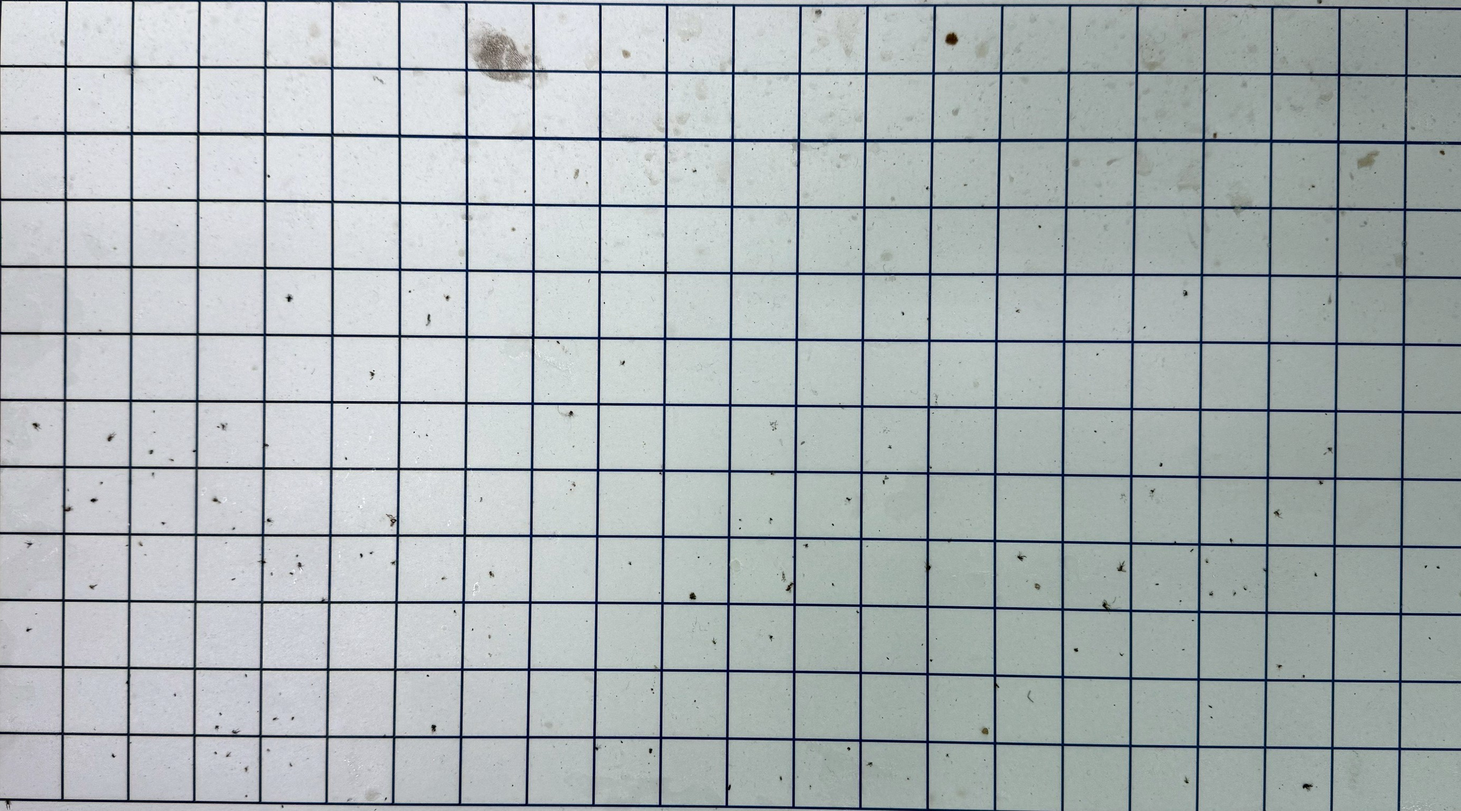test: (1100, 598, 1115, 614), (1300, 781, 1314, 792), (978, 725, 991, 736), (1272, 508, 1285, 519), (387, 513, 397, 527), (1116, 559, 1125, 572), (786, 582, 795, 594), (295, 560, 305, 570), (105, 433, 116, 442), (425, 314, 433, 325), (89, 496, 100, 504), (1034, 580, 1041, 592), (1148, 487, 1157, 496), (1275, 662, 1284, 671), (370, 369, 378, 379), (429, 723, 437, 733), (31, 422, 41, 430), (390, 558, 398, 567), (924, 563, 932, 572), (1017, 552, 1025, 561), (285, 293, 293, 302), (229, 728, 241, 734), (211, 496, 221, 503), (25, 541, 35, 548), (687, 592, 697, 599), (1228, 536, 1235, 546), (711, 636, 717, 647), (259, 557, 267, 565), (486, 571, 495, 578), (62, 505, 71, 512), (1438, 146, 1445, 155), (442, 293, 450, 300), (440, 575, 448, 582), (262, 441, 270, 448), (1311, 571, 1318, 579), (779, 572, 785, 581), (768, 633, 774, 642), (288, 760, 293, 770), (620, 359, 627, 366), (220, 423, 227, 430), (271, 716, 278, 723), (1182, 290, 1189, 297), (1204, 558, 1211, 565), (993, 682, 1000, 689), (569, 409, 575, 417), (89, 583, 97, 589), (226, 751, 232, 759), (167, 456, 175, 462), (725, 783, 733, 789), (1327, 445, 1333, 453), (5, 798, 11, 806), (320, 596, 325, 605), (1185, 777, 1190, 786), (844, 496, 851, 502), (266, 518, 273, 524), (138, 541, 144, 548), (214, 724, 220, 731), (291, 715, 297, 722), (648, 748, 655, 754), (867, 760, 874, 766), (1158, 462, 1165, 468), (881, 479, 887, 486), (1318, 479, 1325, 485), (1207, 590, 1214, 596), (1213, 132, 1219, 139), (800, 439, 806, 446), (737, 516, 743, 523), (925, 185, 931, 192), (230, 576, 237, 582), (269, 571, 276, 577), (218, 711, 224, 718), (769, 470, 775, 477), (1073, 646, 1078, 654), (359, 552, 365, 558), (369, 549, 375, 555), (26, 627, 32, 633), (1015, 308, 1021, 314), (846, 746, 852, 752), (1423, 564, 1429, 570), (1311, 184, 1317, 190), (266, 747, 272, 753), (148, 449, 155, 454), (1118, 651, 1125, 656), (555, 340, 562, 345), (769, 515, 774, 522), (1173, 540, 1178, 547), (289, 571, 296, 576), (151, 471, 156, 478), (111, 753, 117, 758), (244, 766, 250, 771), (594, 745, 600, 750), (779, 776, 784, 782), (804, 542, 809, 548), (1263, 567, 1269, 572), (1232, 591, 1238, 596), (1208, 703, 1213, 709), (900, 311, 906, 316), (1142, 324, 1147, 330), (928, 465, 934, 470), (192, 449, 198, 454), (152, 409, 157, 415), (627, 560, 632, 566), (453, 609, 458, 615), (425, 673, 430, 679), (885, 656, 891, 661), (1155, 582, 1160, 588), (1436, 565, 1441, 571), (887, 444, 893, 449), (173, 692, 178, 698), (213, 751, 219, 756), (99, 480, 104, 486), (231, 526, 237, 531), (66, 487, 71, 493), (77, 86, 82, 92), (487, 634, 493, 639), (1189, 548, 1196, 552), (281, 803, 285, 810), (1037, 224, 1042, 229), (407, 289, 412, 294), (425, 433, 430, 438), (555, 253, 560, 258), (738, 526, 743, 531), (470, 627, 475, 632), (855, 609, 860, 614), (929, 658, 934, 663), (906, 776, 911, 781), (1178, 598, 1183, 603), (1301, 673, 1306, 678), (125, 543, 130, 548), (161, 519, 165, 525), (831, 582, 835, 588), (946, 752, 950, 758), (1428, 635, 1432, 641), (295, 553, 299, 559), (267, 173, 271, 179), (693, 169, 696, 176), (1243, 586, 1247, 591), (1093, 429, 1098, 433), (344, 456, 348, 461), (345, 406, 350, 410), (412, 430, 416, 435), (603, 300, 607, 305), (696, 555, 701, 559), (831, 522, 835, 527), (650, 687, 655, 691), (1191, 618, 1195, 623), (963, 183, 968, 187), (982, 127, 986, 132), (244, 673, 248, 678), (125, 679, 129, 684), (216, 425, 220, 429), (693, 699, 697, 703), (1209, 715, 1213, 719), (1181, 648, 1185, 652), (244, 794, 248, 798), (384, 797, 388, 801), (1096, 352, 1099, 357), (153, 431, 157, 434), (620, 740, 624, 743), (921, 643, 924, 647), (1322, 303, 1326, 306)
